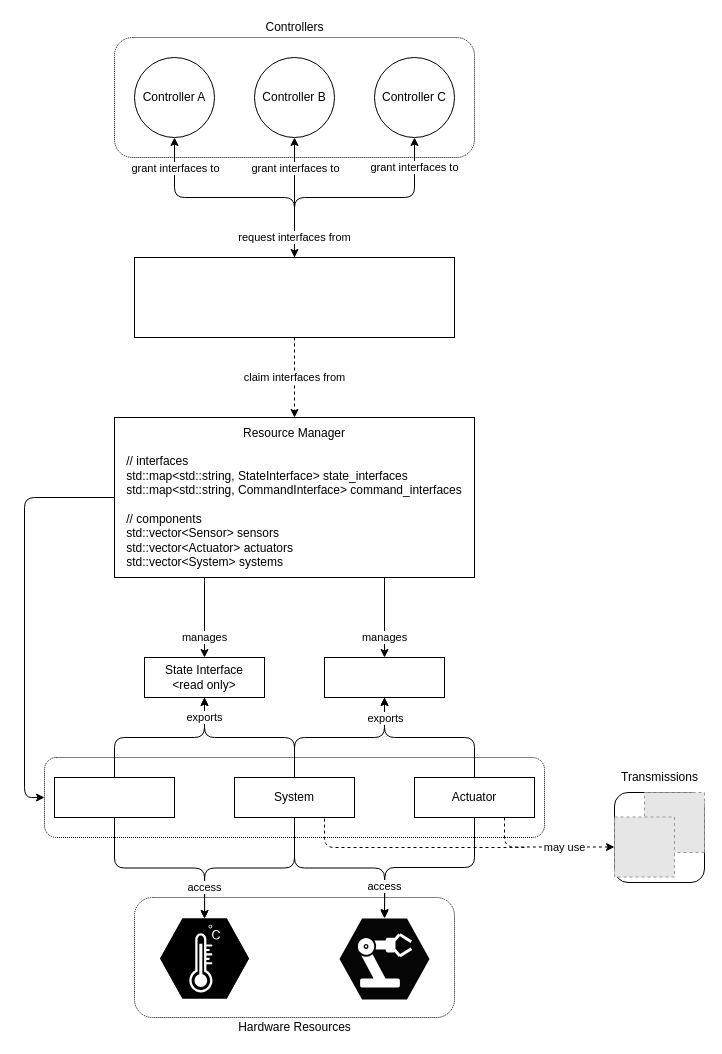
The diagram is 722 pixels wide and 1054 high, and some of its shapes have lost their labels. Grey dashed boxes stand in for pictures. The shapes that lost their labels are listed below. From the top down, each one's centre as x and y in pixels, then its label:
At (x=294, y=297): "Controller Manager std::vector<Controller> controllers".
At (x=384, y=677): "Command Interface <read/write>".
At (x=114, y=797): "Sensor".
